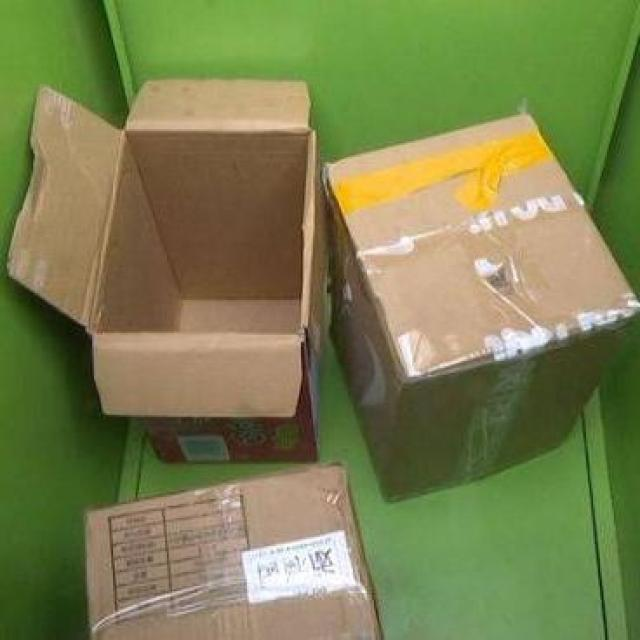cardboard: (7, 70, 328, 460), (325, 110, 635, 494), (85, 460, 379, 640)
